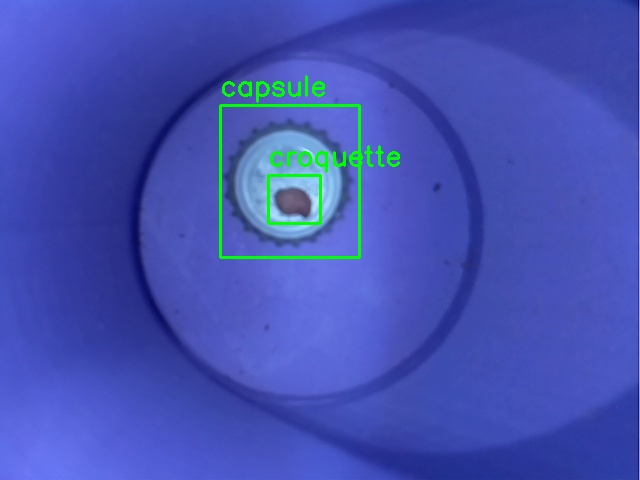capsule: (220, 105, 359, 257)
croquette: (268, 175, 320, 223)
